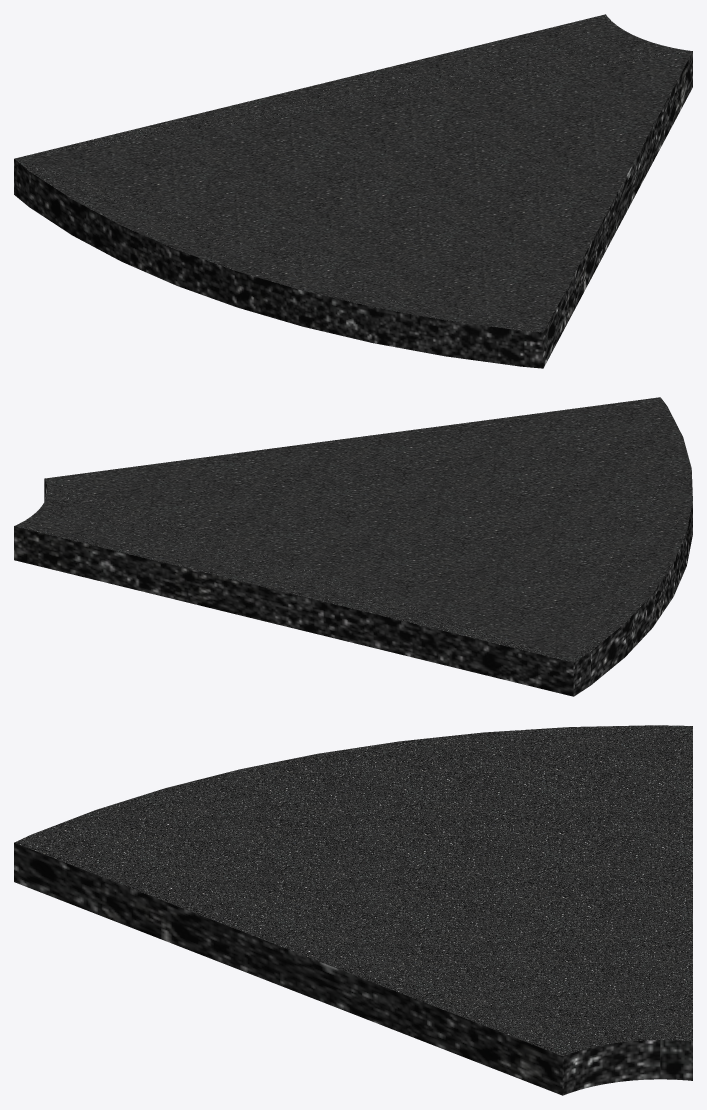
File: curve_small.FBX
The picture shows the model from 3 angles, top to bottom: view 1: azimuth 30°, elevation 25°; view 2: azimuth 150°, elevation 25°; view 3: azimuth 270°, elevation 25°; orthographic projection. The views are drawn at different scales.
Visible parts, largest first — view 1: Box004; view 2: Box004; view 3: Box004.
Boxes of the visible parts, <box> form: Box004: <box>14,14,692,368</box>; Box004: <box>14,397,692,696</box>; Box004: <box>14,725,692,1095</box>.
Size of the model in its own units: 108 by 6 by 93.88.
